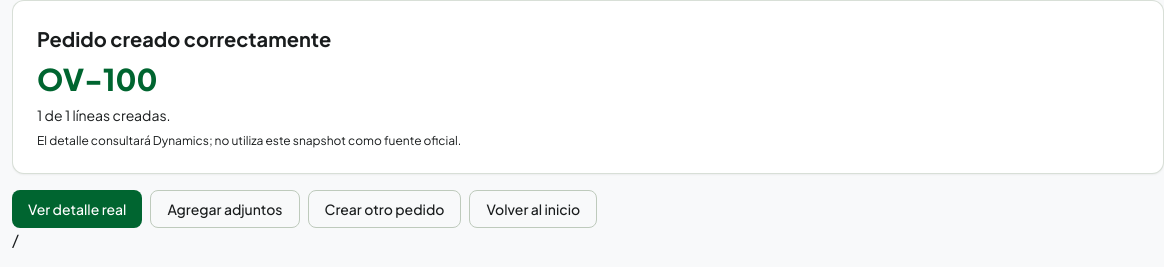
OrderDraftReviewPage recovery, editing and navigation coverage › routes completed orders through Ver detalle real
Click the button "Ver detalle real": point(77, 209) [12, 190, 142, 228]
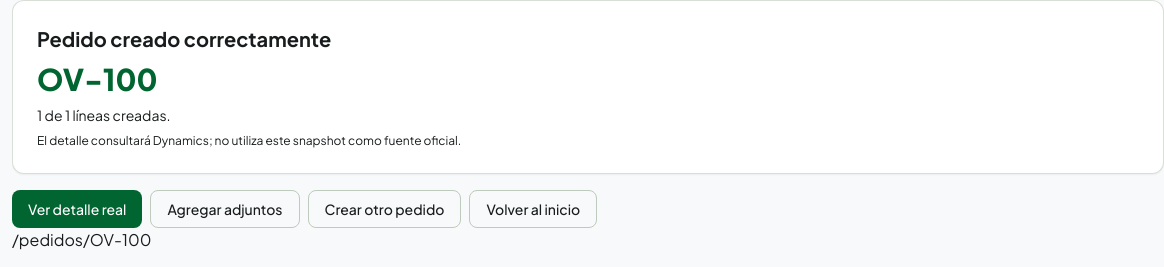
Result: the text with test id "location" reads "/pedidos/OV-100" at [12, 229, 151, 250]
